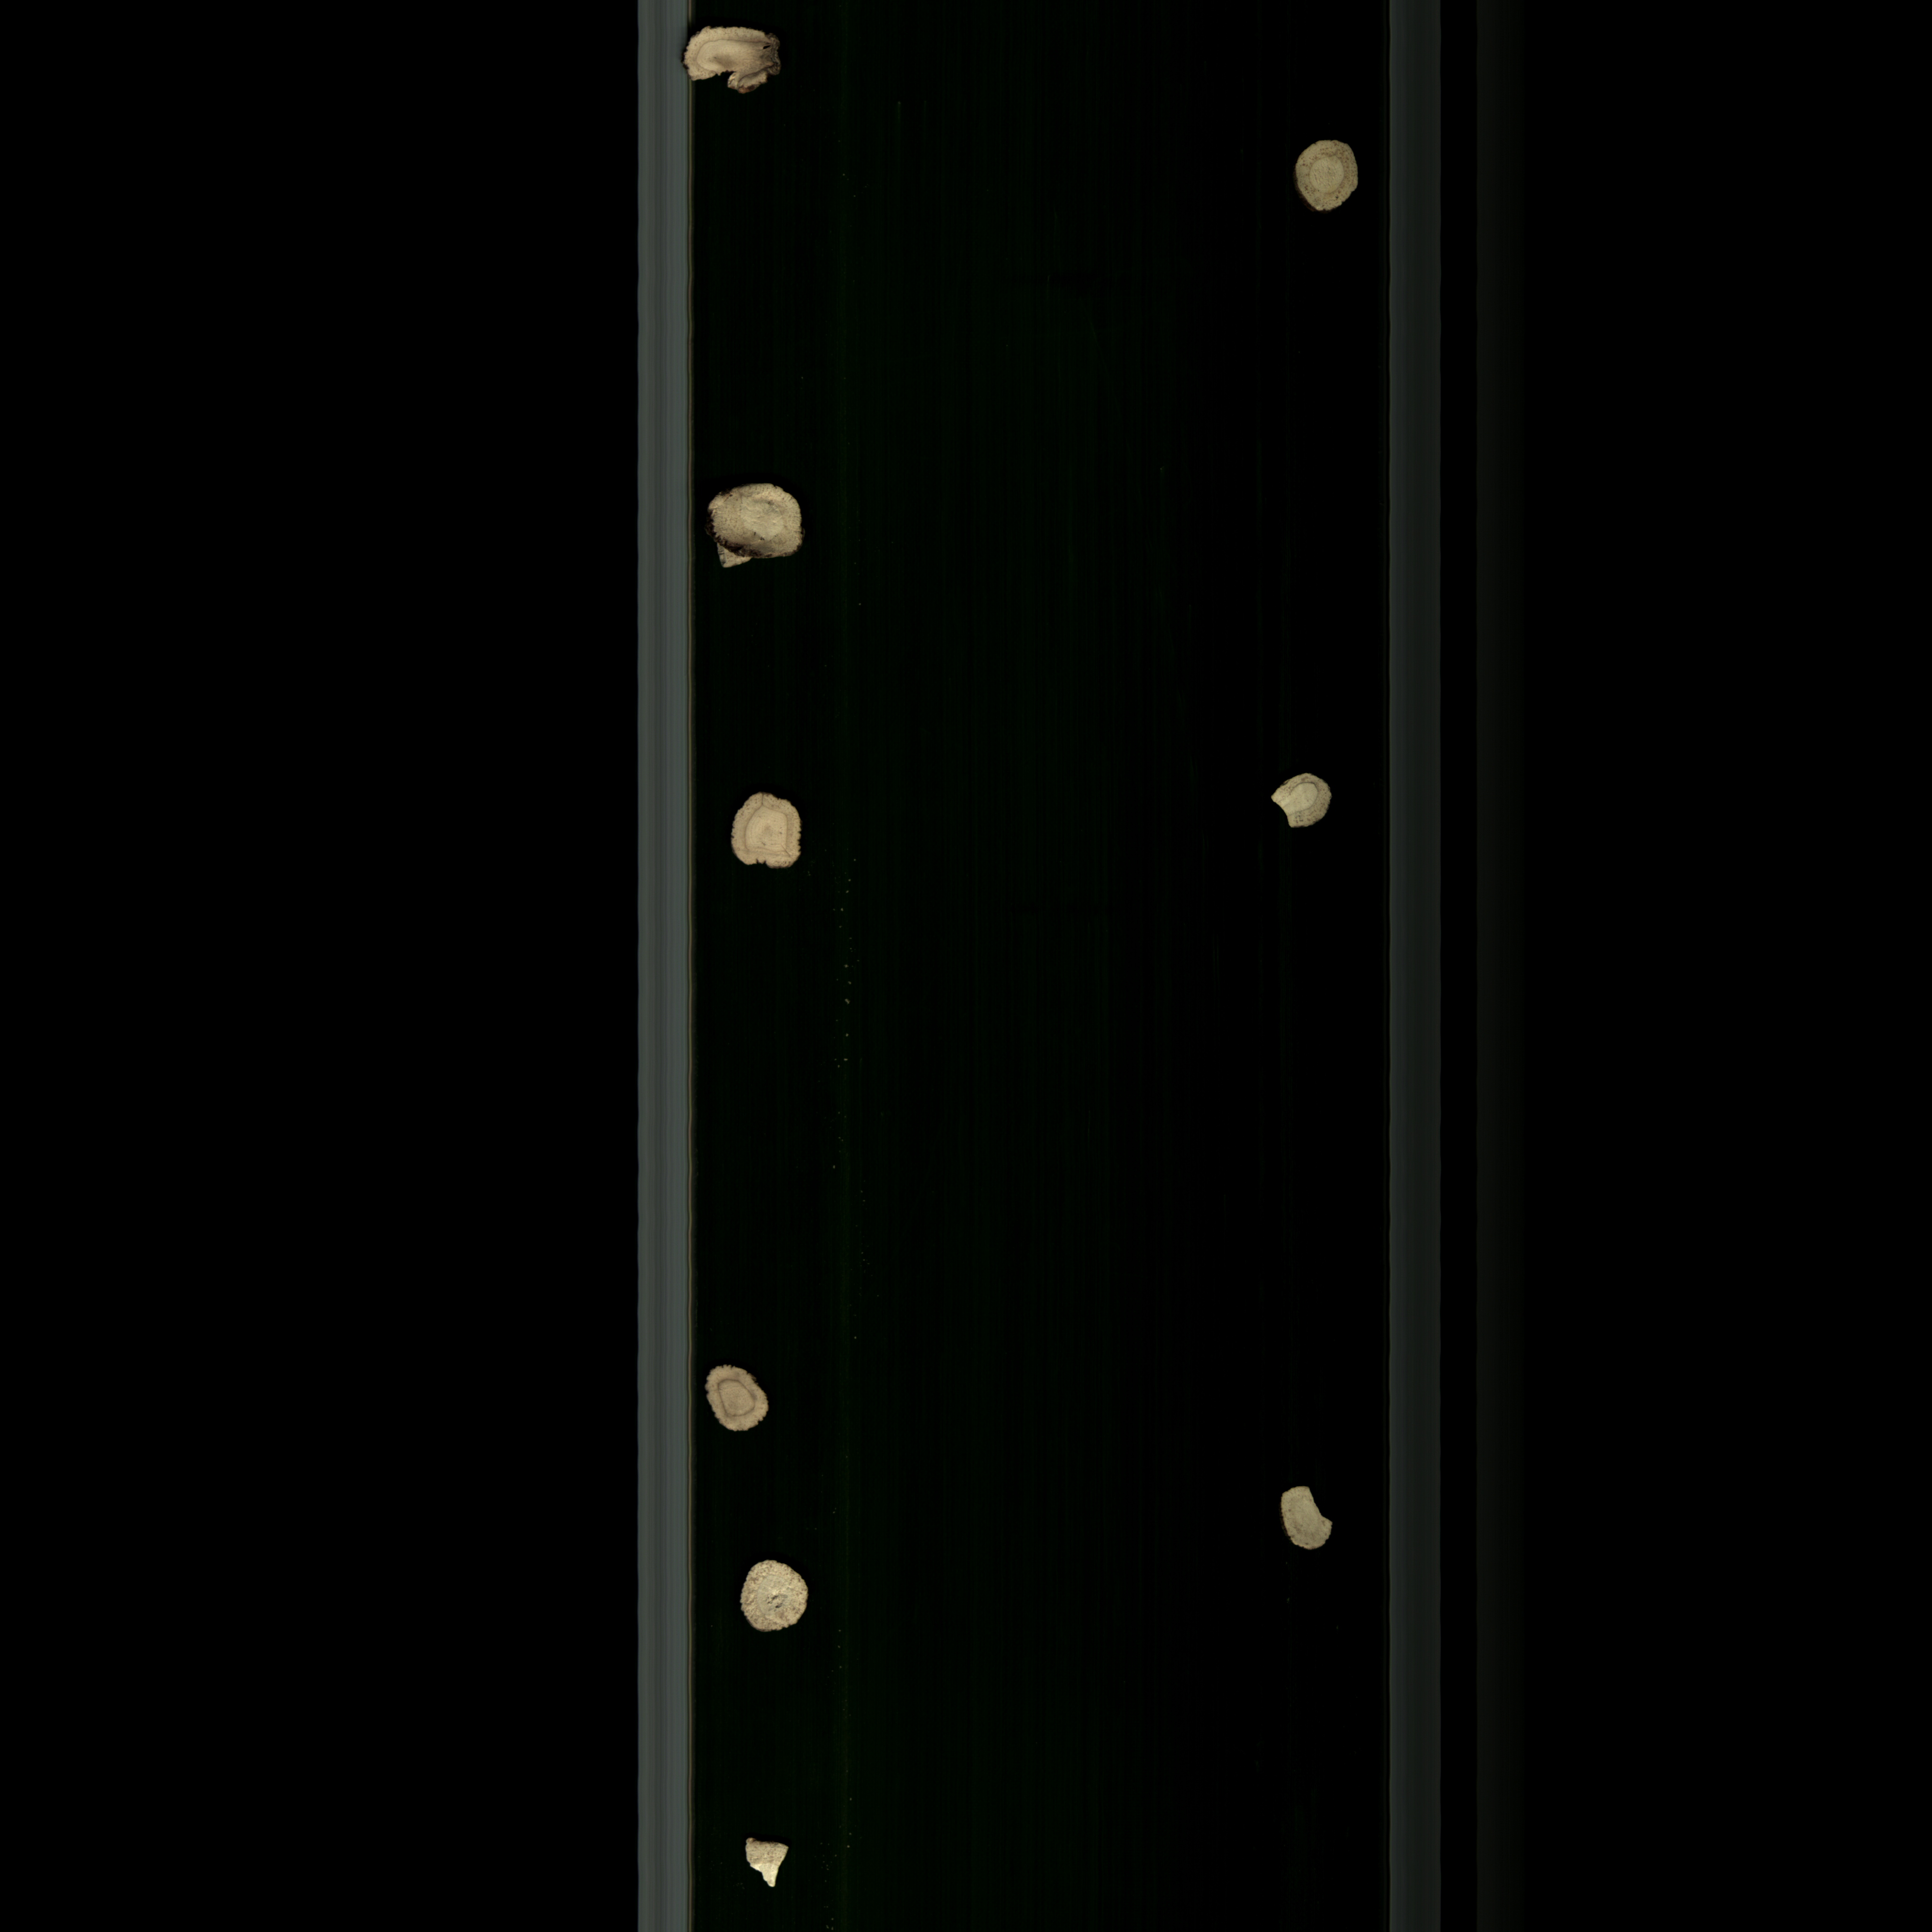debris: (1258, 759, 1336, 840), (1263, 1481, 1336, 1566)
distortion: (697, 481, 819, 584)
dreg: (734, 1822, 787, 1897)
moldy: (674, 25, 787, 111), (1281, 126, 1375, 226), (727, 780, 812, 881), (697, 1366, 782, 1442)
